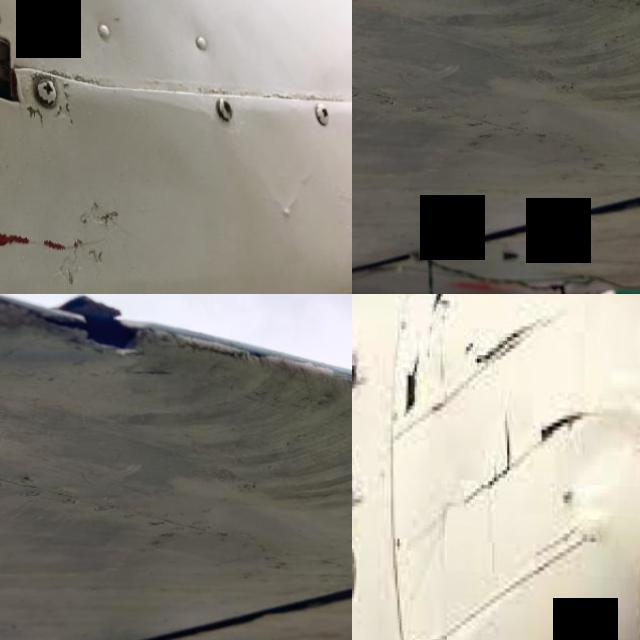Crack: (0, 185, 163, 294), (31, 294, 162, 365), (524, 411, 590, 447), (403, 358, 428, 416), (425, 294, 453, 309)
